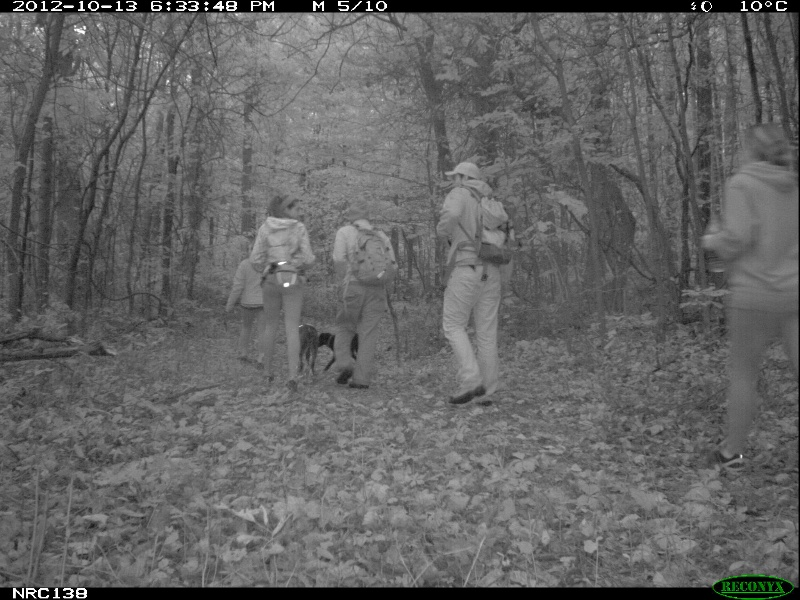dog: (318, 330, 365, 370), (291, 323, 318, 378)
human: (707, 121, 800, 474), (433, 162, 509, 409), (330, 208, 400, 390), (253, 194, 312, 384), (224, 246, 272, 368)
human face: (282, 199, 304, 222), (445, 168, 467, 187)
human legs: (722, 269, 800, 471), (442, 258, 504, 409), (262, 274, 302, 387), (337, 275, 376, 390), (238, 301, 268, 365)
